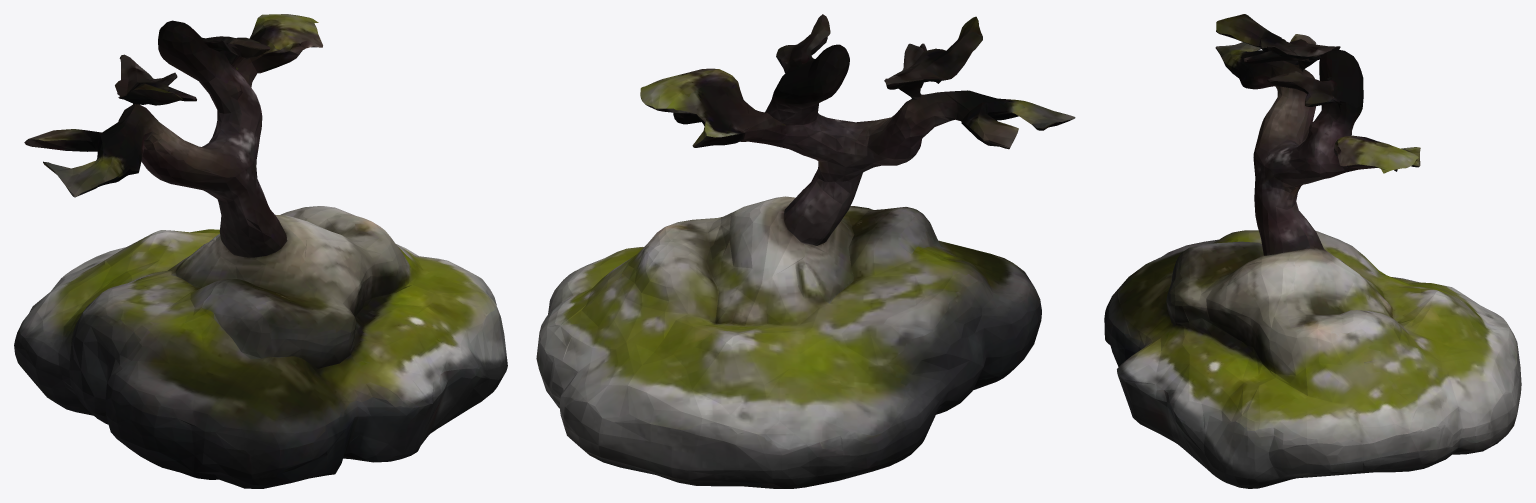
Rendered from prop_amatsu_sakura.glb.
3 renders of one model, left to right at view 1: azimuth 30°, elevation 25°; view 2: azimuth 150°, elevation 25°; view 3: azimuth 270°, elevation 25°, orthographic. The views are drawn at different scales.
Visible parts, largest first — view 1: geometry_0; view 2: geometry_0; view 3: geometry_0.
Boxes of the visible parts, x1,y1,x2,y2 form: geometry_0: (14, 14, 507, 488); geometry_0: (536, 14, 1075, 488); geometry_0: (1104, 14, 1521, 488).
Size of the model in its own units: 0.9957 by 0.8039 by 0.9036.
1 material, 1 textured.
